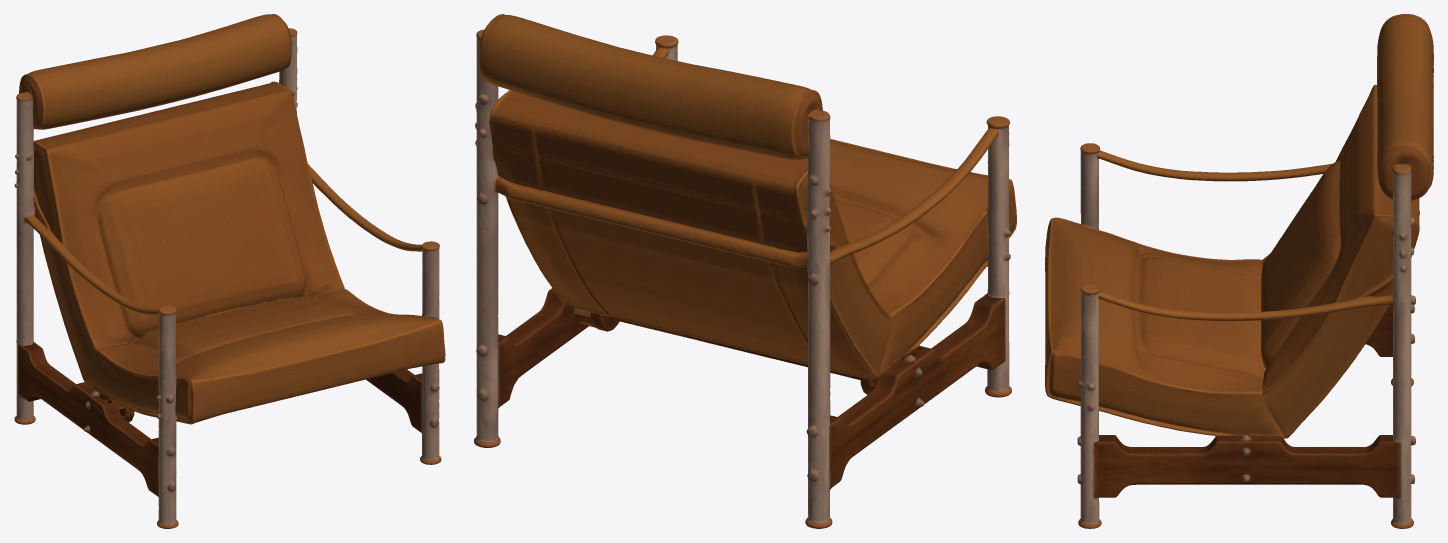
Rendered from chair.glb.
3 views of the same model, side by side, from view 1: azimuth 30°, elevation 25°; view 2: azimuth 150°, elevation 25°; view 3: azimuth 270°, elevation 25° (orthographic). The views are drawn at different scales.
Parts seen in each view (by area): view 1: world; view 2: world; view 3: world.
Part boxes in pixels (x1,y1,x2,y2): world: (14, 14, 445, 528); world: (474, 14, 1016, 528); world: (1045, 14, 1433, 528).
Bounding box in the file's own units: 0.8822 × 1 × 0.9418.
1 material, 1 textured.
